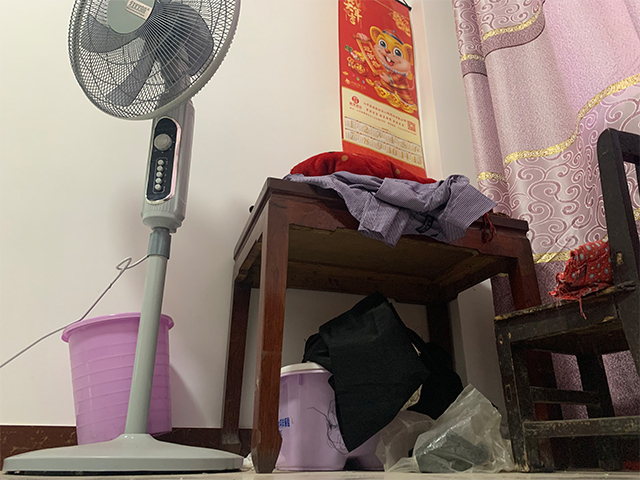curtain: (452, 1, 640, 421)
stool: (492, 127, 639, 474)
table: (219, 176, 572, 475)
trashcan: (60, 311, 175, 446)
